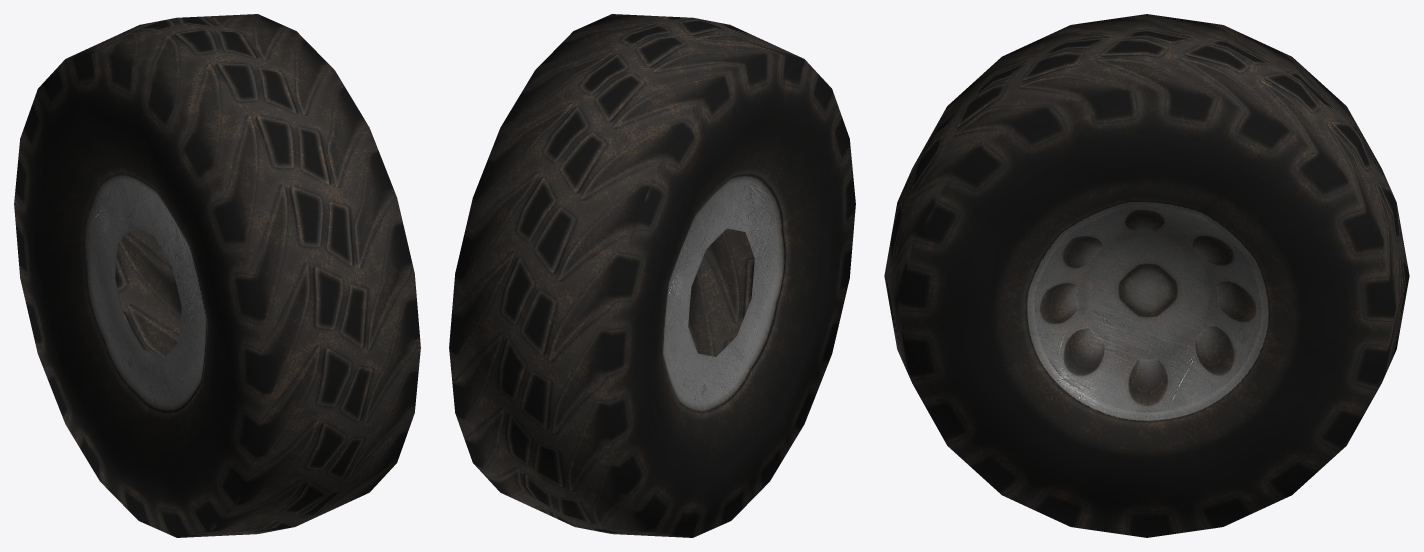
Rendered from Tire2.fbx.
3 views of the same model, side by side, from view 1: azimuth 30°, elevation 25°; view 2: azimuth 150°, elevation 25°; view 3: azimuth 270°, elevation 25° (orthographic).
Parts seen in each view (by area): view 1: Tire_02.001; view 2: Tire_02.001; view 3: Tire_02.001.
Part boxes in pixels (box(x1,y1,x2,y2)): Tire_02.001: box(14, 14, 420, 537); Tire_02.001: box(449, 14, 855, 537); Tire_02.001: box(884, 14, 1409, 537).
Bounding box in the file's own units: 30.19 × 78.88 × 78.88.
Materials: 1 (1 with a texture image).
